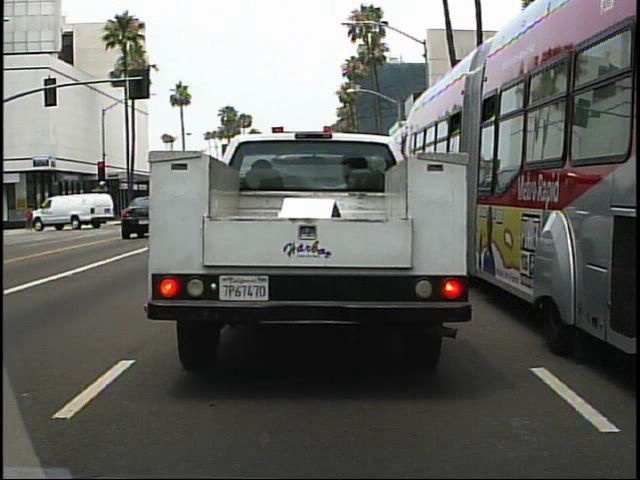person: (24, 204, 37, 237)
